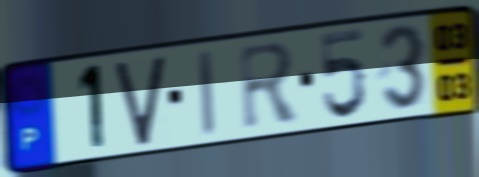1: (74, 60, 107, 155)
3: (374, 21, 430, 114)
5: (319, 25, 369, 123)
I: (197, 47, 218, 138)
R: (236, 39, 303, 133)
V: (112, 52, 168, 149)
